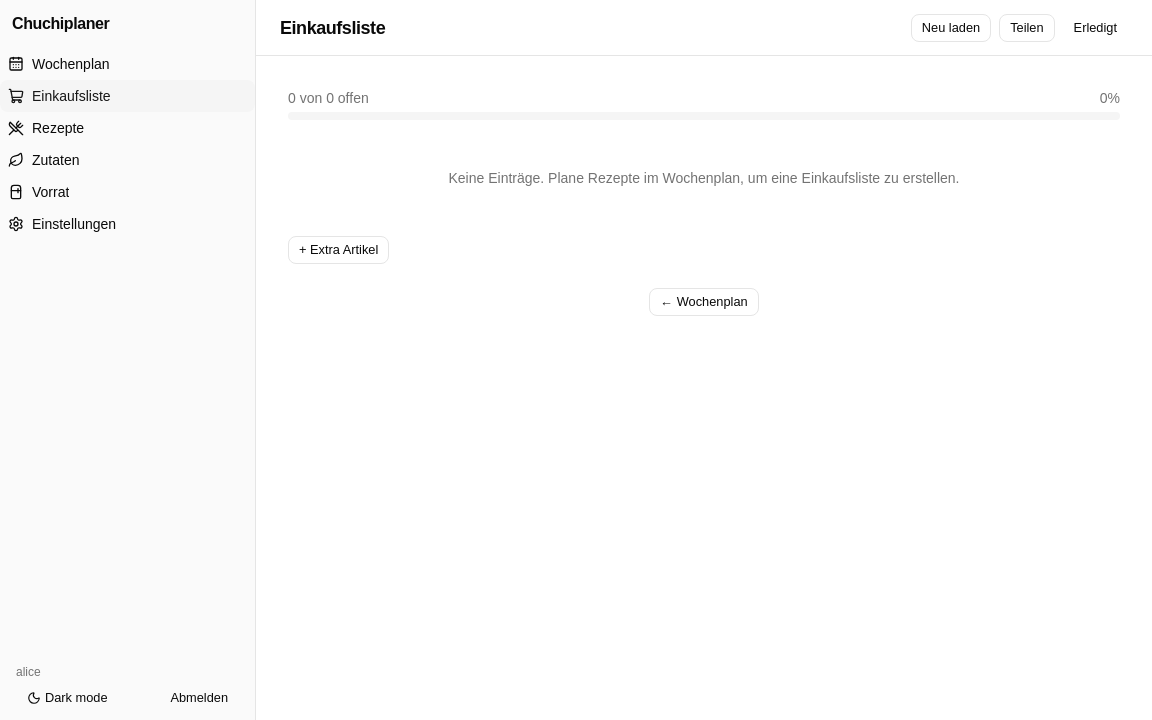
GroceryListPage › includes 'Msp' in the unit dropdowns
The width and height of the screenshot is (1152, 720).
Click the button "+ Extra Artikel": (339, 250) [288,236,389,264]
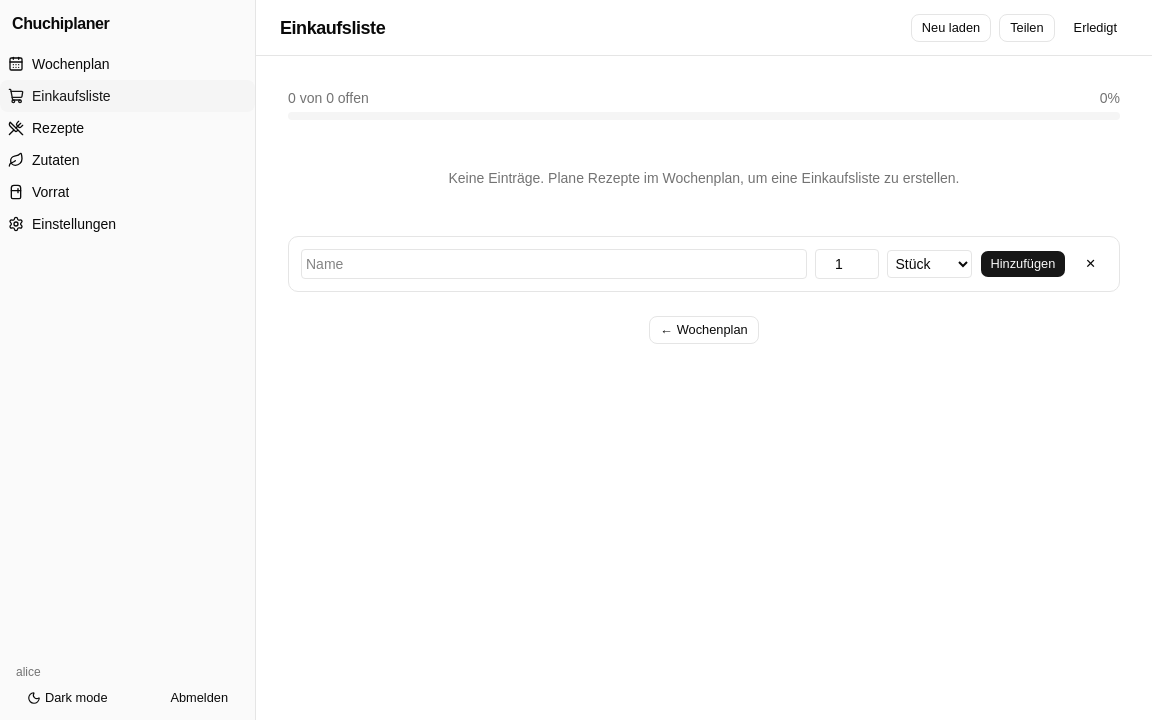
Expected: the dropdown is shown, [886,250,972,278]
